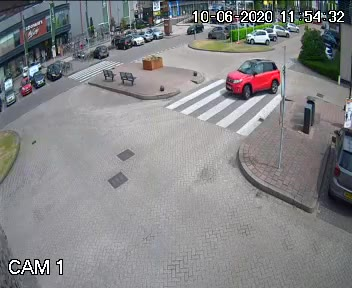car: (216, 49, 281, 104)
